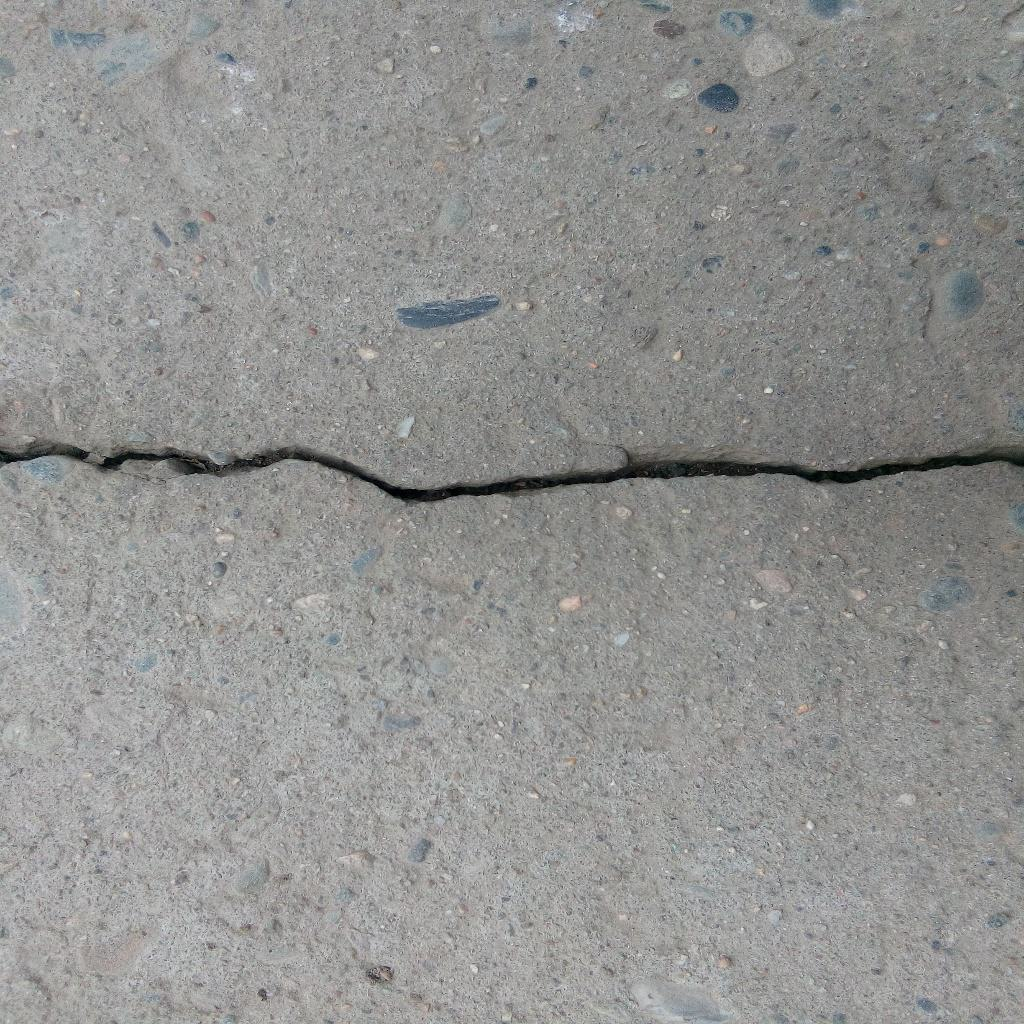Crack: (1, 443, 1024, 504)
